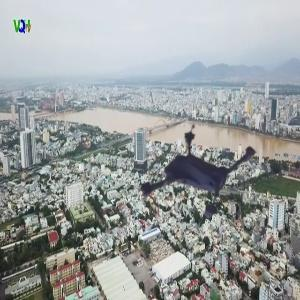drone: (119, 120, 252, 253)
